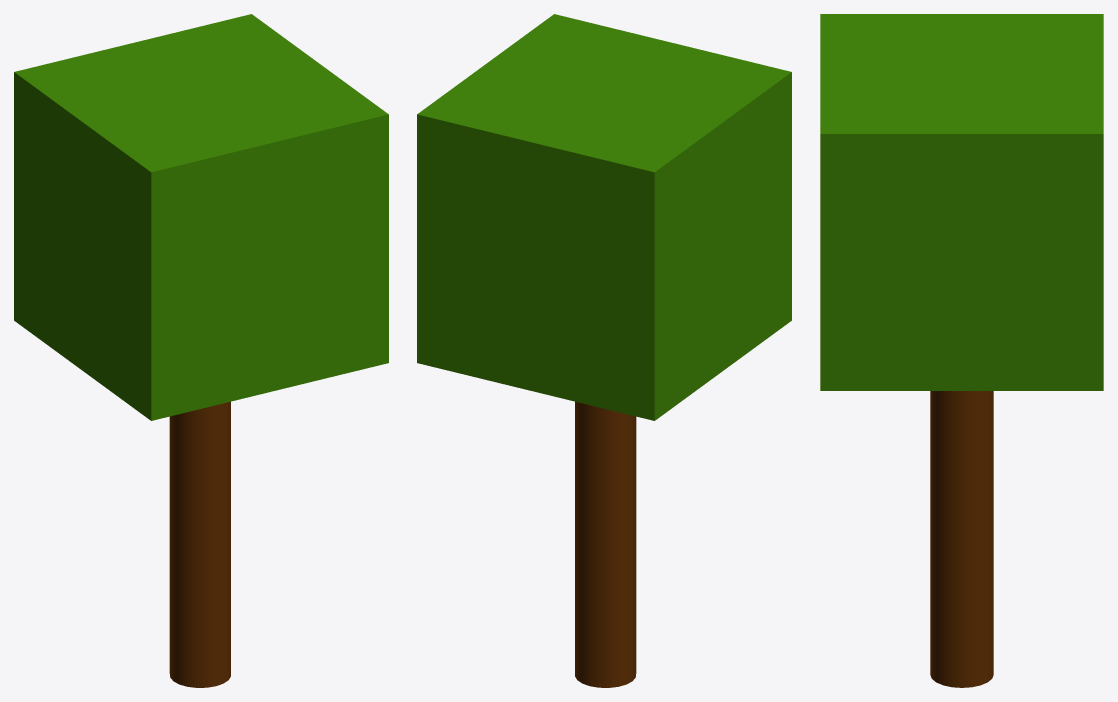
Rendered from TreeExport.fbx.
The picture shows the model from 3 angles, left to right: view 1: azimuth 30°, elevation 25°; view 2: azimuth 150°, elevation 25°; view 3: azimuth 270°, elevation 25°; orthographic projection. The views are drawn at different scales.
Visible parts, largest first — view 1: Leaves, Tree; view 2: Leaves, Tree; view 3: Leaves, Tree.
Boxes of the visible parts, x1,y1,x2,y2 form: Leaves: (14, 14, 388, 420); Tree: (169, 401, 230, 687); Leaves: (417, 14, 791, 420); Tree: (575, 401, 636, 687); Leaves: (820, 14, 1103, 390); Tree: (930, 391, 993, 687).
Bounding box in the file's own units: 3.59 × 8.39 × 3.59.
